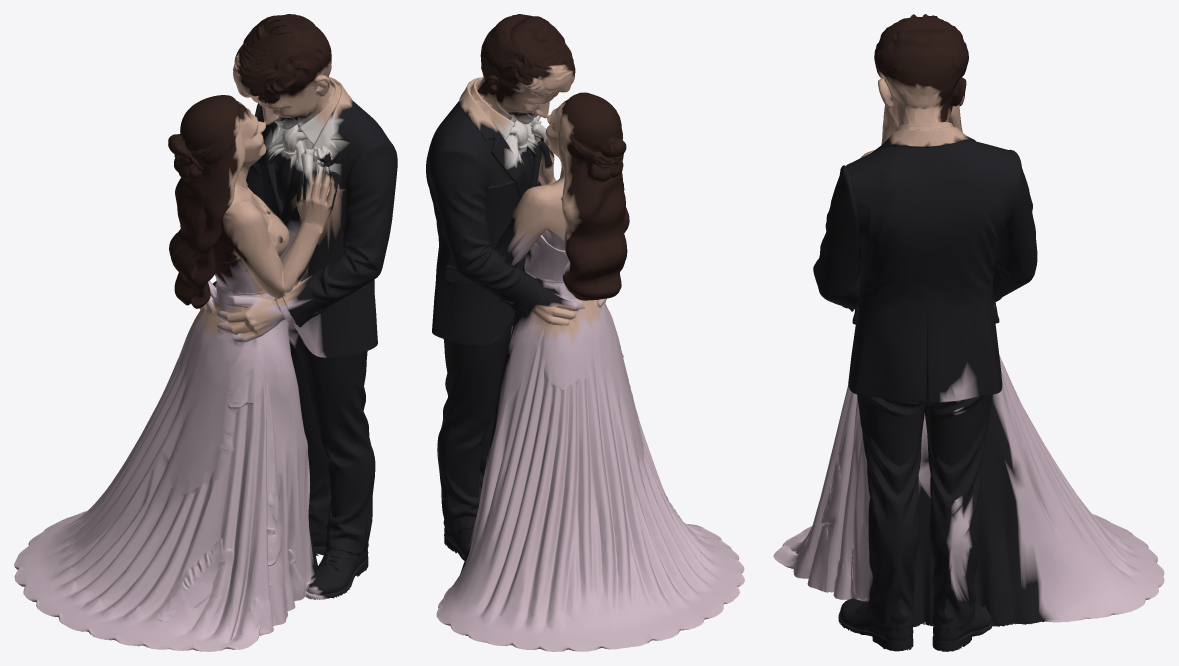
Rendered from wedding-couple.glb.
3 views of the same model, side by side, from view 1: azimuth 30°, elevation 25°; view 2: azimuth 150°, elevation 25°; view 3: azimuth 270°, elevation 25° (orthographic). The views are drawn at different scales.
Parts seen in each view (by area): view 1: Mesh_0; view 2: Mesh_0; view 3: Mesh_0.
Part boxes in pixels (<box>): Mesh_0: <box>14,14,397,651</box>; Mesh_0: <box>426,14,744,651</box>; Mesh_0: <box>773,14,1164,651</box>.
Bounding box in the file's own units: 0.8462 × 1.44 × 0.8566.
